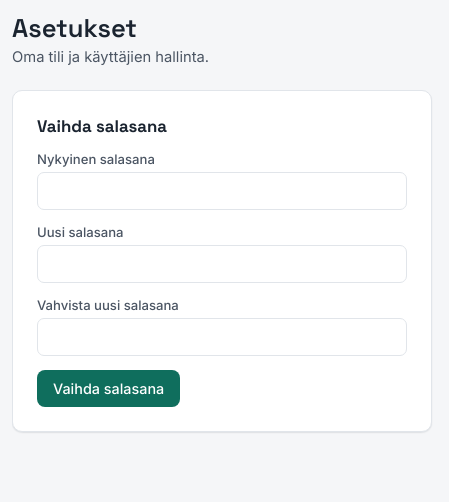
Test case: ChangePasswordCard › näyttää virheen jos uudet salasanat eivät täsmää
Type "admin123" into the password field labelled "Nykyinen salasana" at (222, 191), box x1=37 y1=172 x2=407 y2=210
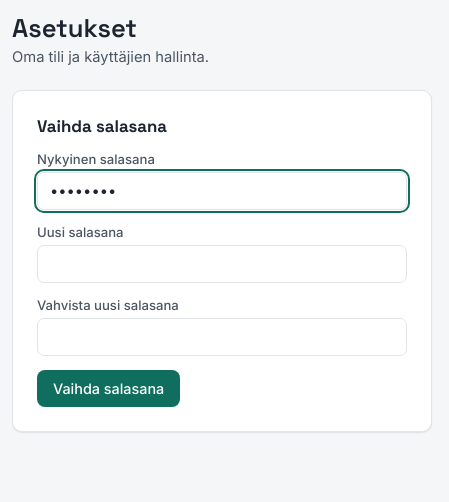
Type "uusisalasana1" into the password field labelled "Uusi salasana" at (222, 264), box x1=37 y1=245 x2=407 y2=283
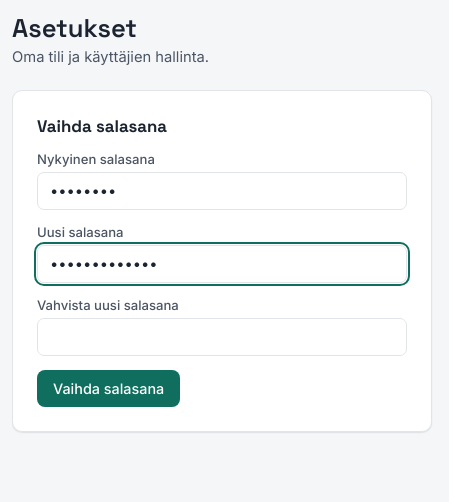
Type "eritekstiä" into the password field labelled "Vahvista uusi salasana" at (222, 337), box x1=37 y1=318 x2=407 y2=356
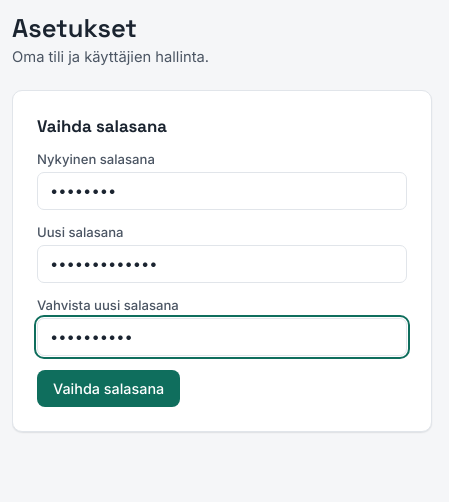
Click the button "Vaihda salasana" at (109, 388), box x1=37 y1=370 x2=180 y2=407
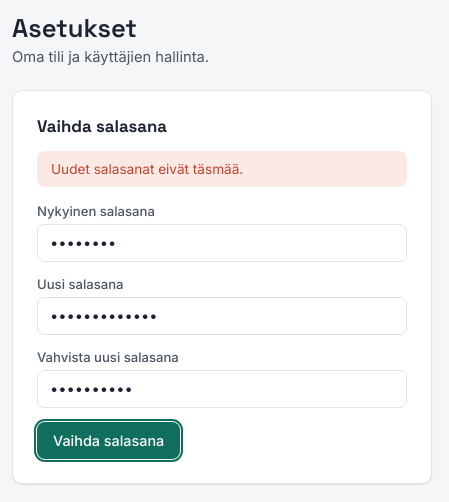
Check: the text "Uudet salasanat eivät täsmää." is shown, box x1=37 y1=151 x2=407 y2=187
